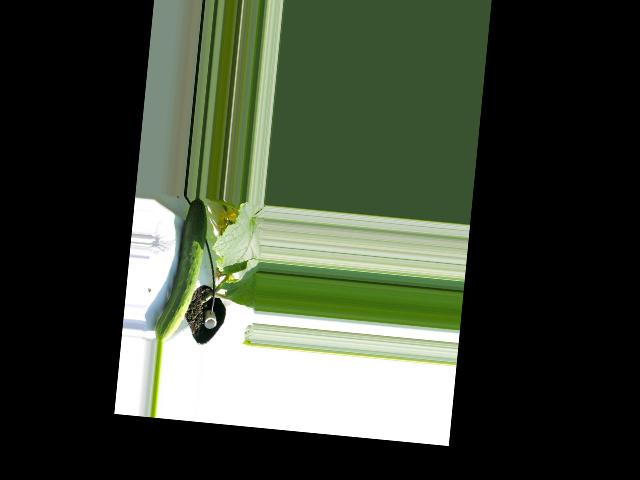cucumber: (154, 195, 209, 346)
